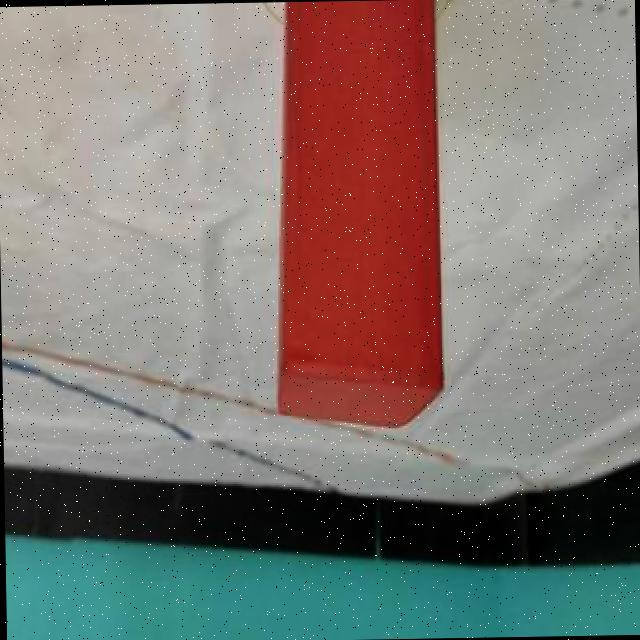redbox: (269, 0, 448, 433)
